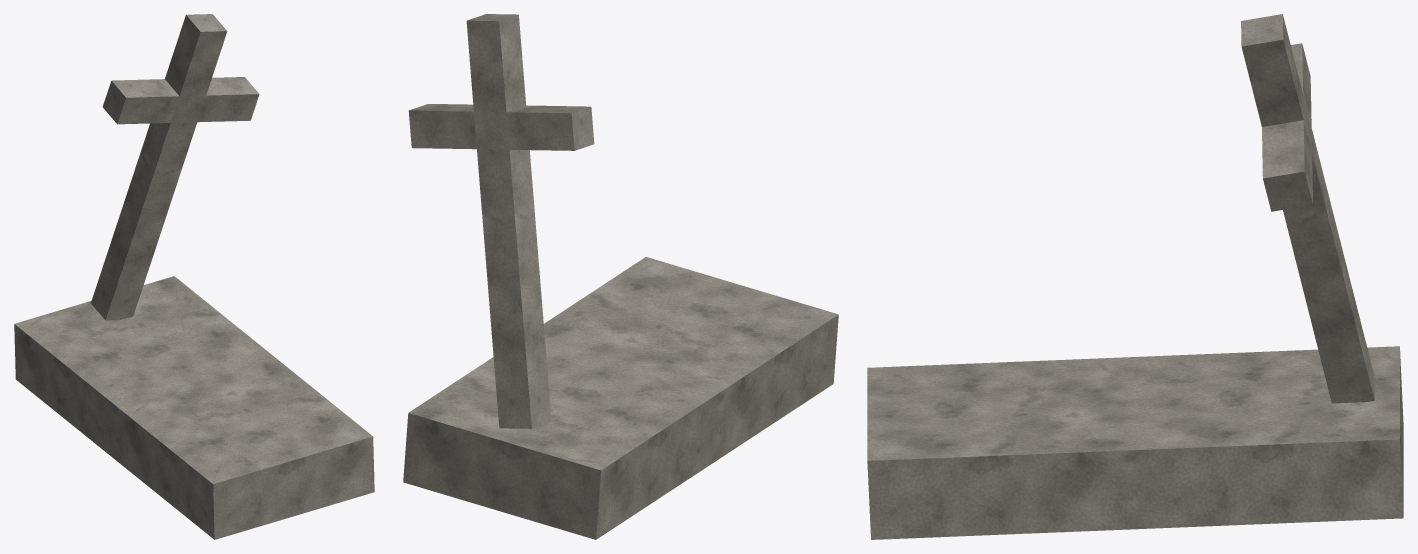
File: cruz_tumba_vieja.obj
3 views of the same model, side by side, from view 1: azimuth 30°, elevation 25°; view 2: azimuth 150°, elevation 25°; view 3: azimuth 270°, elevation 25° (orthographic). The views are drawn at different scales.
Visible parts, largest first — view 1: Cube, Cube.001, Cube.002; view 2: Cube, Cube.001, Cube.002; view 3: Cube, Cube.001, Cube.002.
Part boxes in pixels (<box>): Cube: <box>14,276,374,539</box>; Cube.001: <box>91,14,227,320</box>; Cube.002: <box>102,77,259,124</box>; Cube: <box>403,257,838,539</box>; Cube.001: <box>466,14,551,428</box>; Cube.002: <box>408,104,594,150</box>; Cube: <box>867,346,1403,539</box>; Cube.001: <box>1241,14,1374,403</box>; Cube.002: <box>1262,43,1312,211</box>.
Size of the model in its own units: 0.8524 by 1.6 by 1.51.
1 material, 1 textured.
